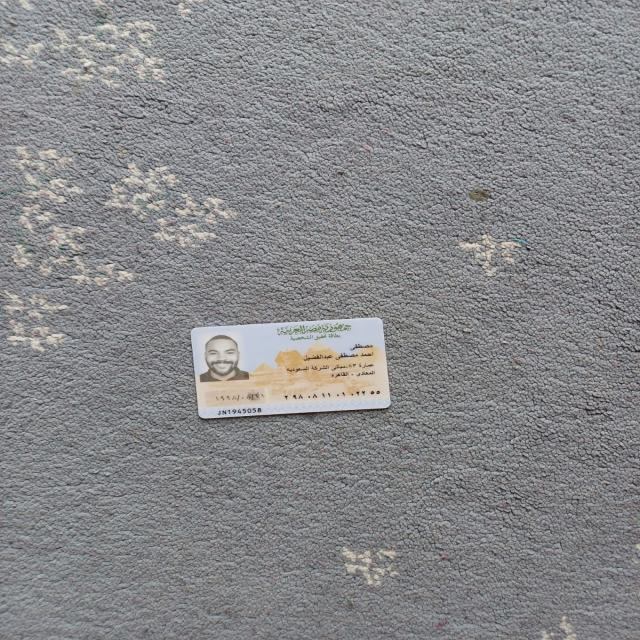ID-cards: (186, 311, 397, 427)
